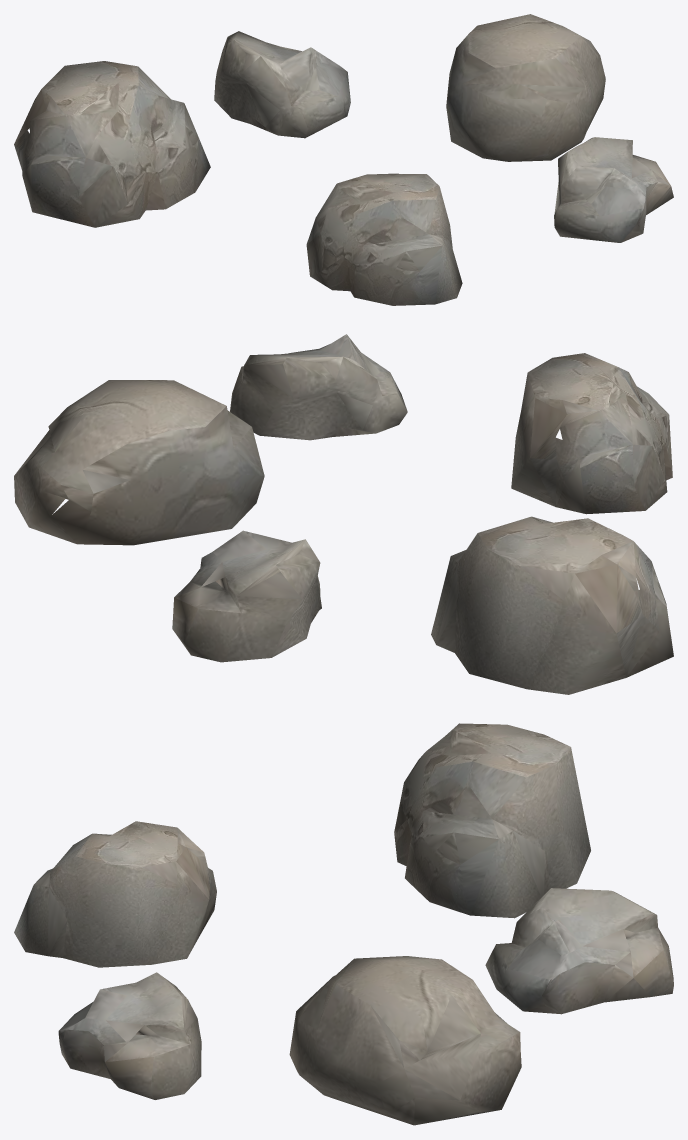
Rendered from rock_pebbles.gltf.
3 renders of one model, top to bottom at view 1: azimuth 30°, elevation 25°; view 2: azimuth 150°, elevation 25°; view 3: azimuth 270°, elevation 25°, orthographic. The views are drawn at different scales.
Parts seen in each view (by area): view 1: rock_pebbles; view 2: rock_pebbles; view 3: rock_pebbles.
Boxes of the visible parts, x1,y1,x2,y2 form: rock_pebbles: (14,14,673,305); rock_pebbles: (14,334,673,694); rock_pebbles: (14,723,673,1125).
Size of the model in its own units: 1.02 by 0.1885 by 0.91.
Materials: 1 (1 with a texture image).
